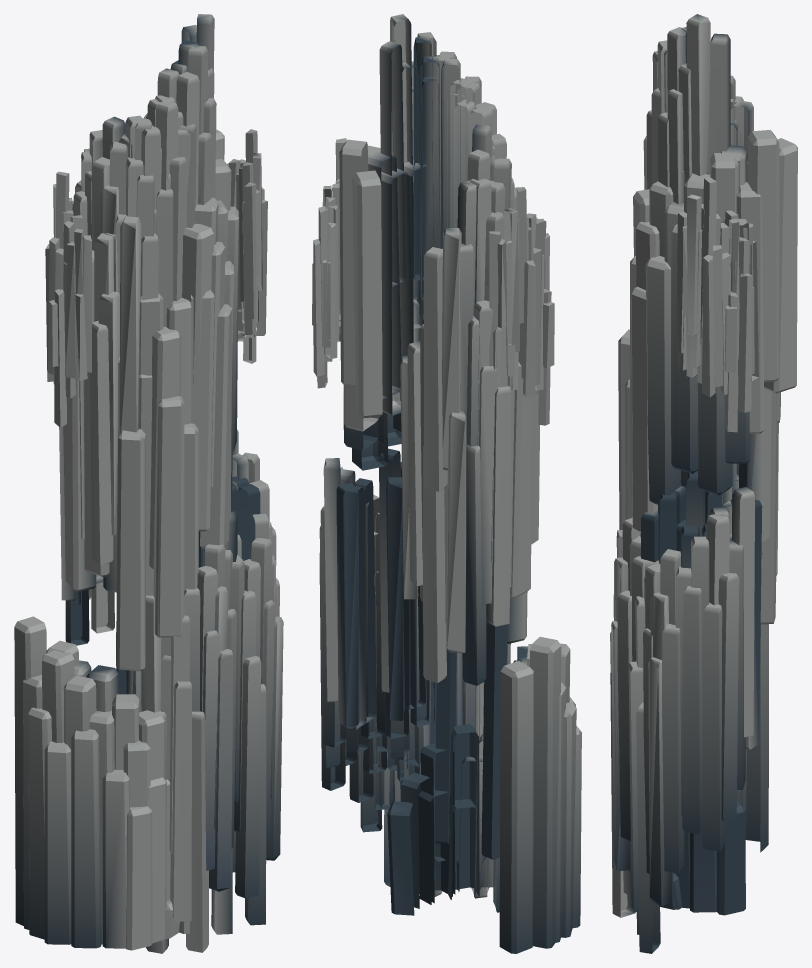
The picture shows the model from 3 angles, left to right: view 1: azimuth 30°, elevation 25°; view 2: azimuth 150°, elevation 25°; view 3: azimuth 270°, elevation 25°; orthographic projection. The views are drawn at different scales.
Parts seen in each view (by area): view 1: G:\FFXIV-MapTools\exports\n4t1\bg\ex3\01_nvt_n4\twn\n4t1\bgp (×3); view 2: G:\FFXIV-MapTools\exports\n4t1\bg\ex3\01_nvt_n4\twn\n4t1\bgp (×3); view 3: G:\FFXIV-MapTools\exports\n4t1\bg\ex3\01_nvt_n4\twn\n4t1\bgp (×3).
Part boxes in pixels (x1,y1,x2,y2): G:\FFXIV-MapTools\exports\n4t1\bg\ex3\01_nvt_n4\twn\n4t1\bgp (×3): [14, 14, 283, 953]; G:\FFXIV-MapTools\exports\n4t1\bg\ex3\01_nvt_n4\twn\n4t1\bgp (×3): [312, 14, 581, 953]; G:\FFXIV-MapTools\exports\n4t1\bg\ex3\01_nvt_n4\twn\n4t1\bgp (×3): [610, 14, 797, 953].
Bounding box in the file's own units: 133 × 464 × 86.12.
